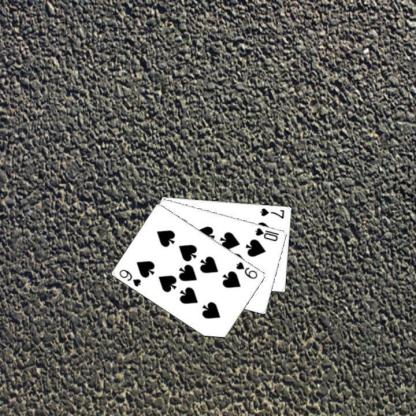10S: (253, 225, 280, 243)
7S: (258, 206, 285, 220)
9S: (233, 259, 259, 280), (116, 267, 142, 288)
